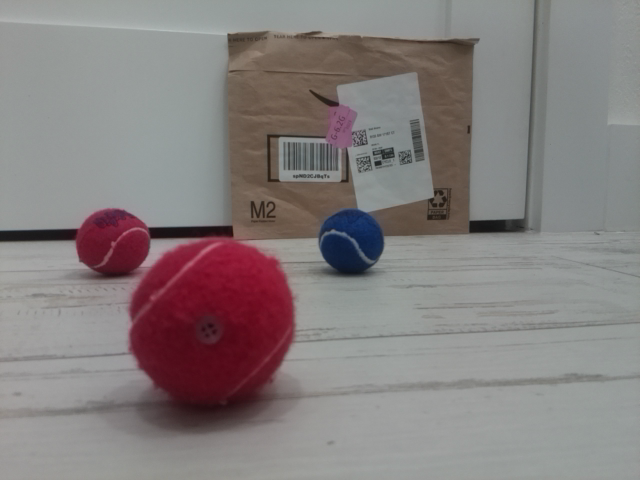blue-ball: (318, 208, 385, 276)
red-ball: (128, 238, 297, 410), (75, 207, 151, 277)
